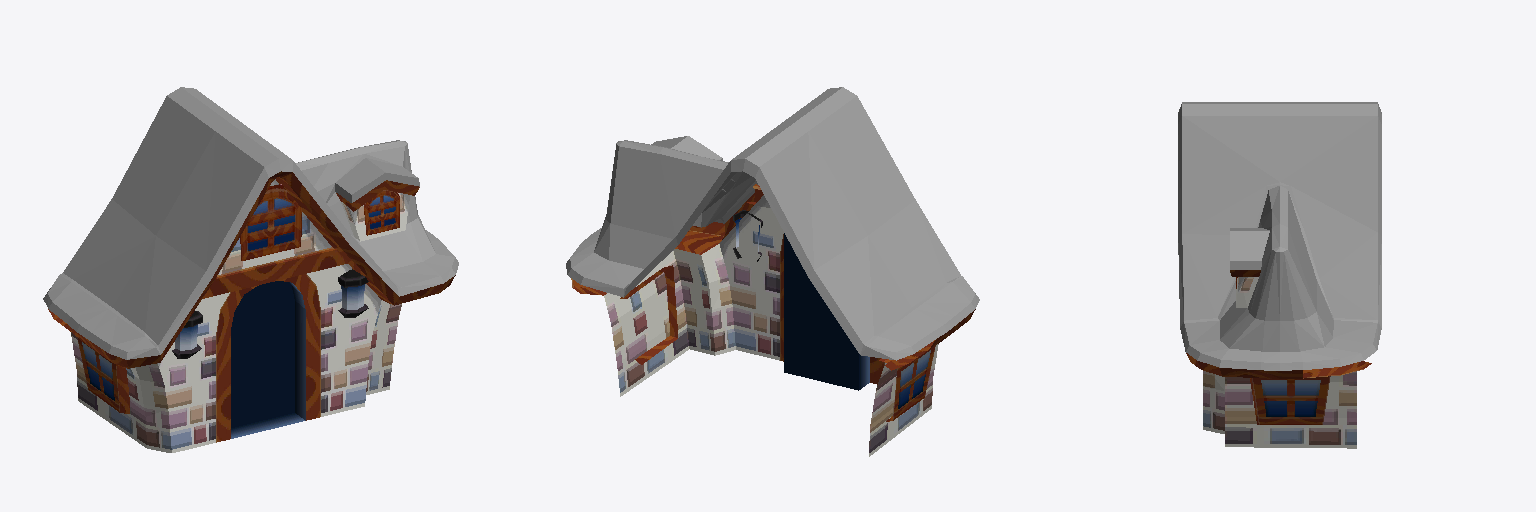
3 views of the same model, side by side, from view 1: azimuth 30°, elevation 25°; view 2: azimuth 150°, elevation 25°; view 3: azimuth 270°, elevation 25° (orthographic).
Parts seen in each view (by area): view 1: vsn_mesh_0__mesh_0_.008, vsn_mesh_2__mesh_2_, vsn_mesh_1__mesh_1_.008; view 2: vsn_mesh_2__mesh_2_, vsn_mesh_0__mesh_0_.008; view 3: vsn_mesh_2__mesh_2_, vsn_mesh_0__mesh_0_.008.
Part boxes in pixels (x1,y1,x2,y2): vsn_mesh_0__mesh_0_.008: (48, 171, 455, 452); vsn_mesh_2__mesh_2_: (43, 87, 458, 359); vsn_mesh_1__mesh_1_.008: (172, 269, 368, 358); vsn_mesh_2__mesh_2_: (566, 87, 979, 360); vsn_mesh_0__mesh_0_.008: (571, 184, 975, 456); vsn_mesh_2__mesh_2_: (1178, 102, 1381, 370); vsn_mesh_0__mesh_0_.008: (1186, 270, 1371, 448).
Size of the model in its own units: 1.51 by 1.12 by 0.74.
3 materials, 1 textured.